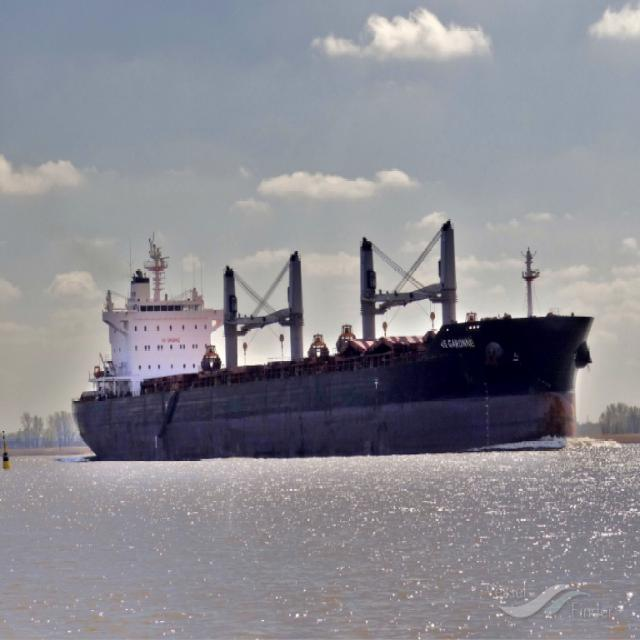OCR: (434, 332, 475, 352)
